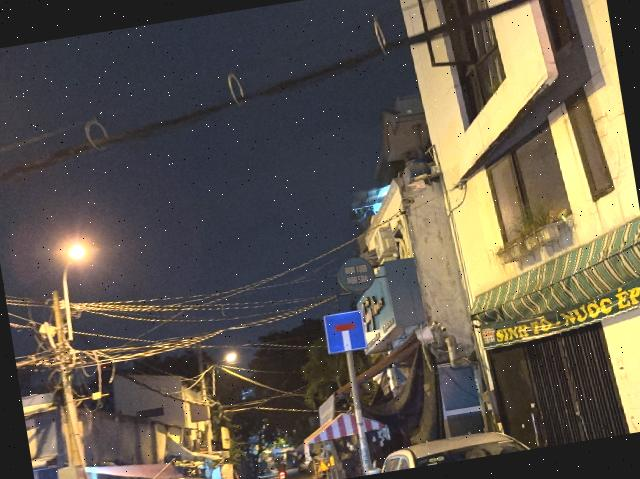duong-cut: (322, 310, 367, 354)
